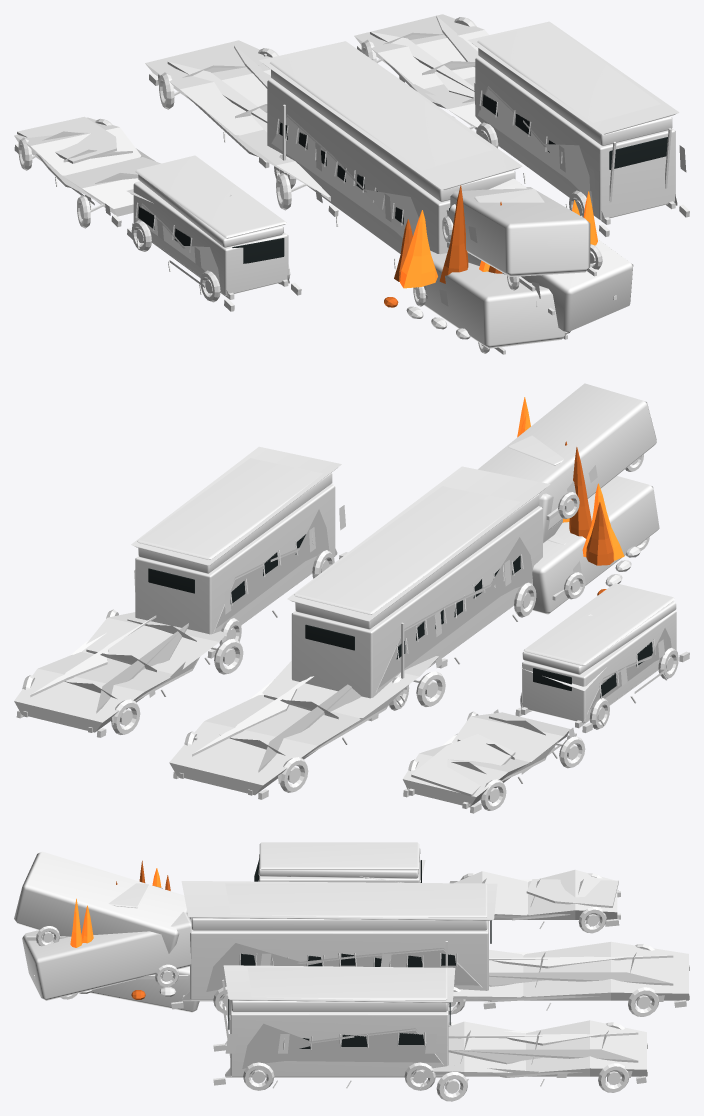
File: crush.glb
3 renders of one model, top to bottom at view 1: azimuth 30°, elevation 25°; view 2: azimuth 150°, elevation 25°; view 3: azimuth 270°, elevation 25°, orthographic. The views are drawn at different scales.
Visible parts, largest first — view 1: bus-whole-body-shell, rv-whole-body-shell, van-whole-body-shell, fire-stack-top-car-wreck-body, bus-crushed-body-shell, fire-stack-lower-car-wreck-body, rv-crushed-body-shell, van-crushed-body-shell, fire-stack-middle-car-wreck-body, curling-flame-tongue.005, rv-whole-broken-glass, rv-whole-welds-and-frame (+10 smaller); view 2: bus-whole-body-shell, rv-whole-body-shell, bus-crushed-body-shell, van-whole-body-shell, rv-crushed-body-shell, fire-stack-top-car-wreck-body, van-crushed-body-shell, fire-stack-lower-car-wreck-body, rv-crushed-wheels, bus-crushed-wheels, bus-whole-broken-glass, van-crushed-wheels (+10 smaller); view 3: bus-whole-body-shell, rv-whole-body-shell, bus-crushed-body-shell, rv-crushed-body-shell, fire-stack-top-car-wreck-body, fire-stack-middle-car-wreck-body, van-whole-body-shell, van-crushed-body-shell, fire-stack-lower-car-wreck-body, rv-crushed-wheels, rv-whole-welds-and-frame, rv-whole-wheels (+7 smaller).
Boxes of the visible parts, x1=… form: bus-whole-body-shell: x1=259, y1=41, x2=522, y2=254; rv-whole-body-shell: x1=468, y1=21, x2=679, y2=223; van-whole-body-shell: x1=127, y1=155, x2=289, y2=297; fire-stack-top-car-wreck-body: x1=450, y1=187, x2=590, y2=276; bus-crushed-body-shell: x1=145, y1=40, x2=330, y2=201; fire-stack-lower-car-wreck-body: x1=424, y1=250, x2=566, y2=348; rv-crushed-body-shell: x1=354, y1=14, x2=488, y2=132; van-crushed-body-shell: x1=14, y1=116, x2=160, y2=216; fire-stack-middle-car-wreck-body: x1=447, y1=178, x2=633, y2=332; curling-flame-tongue.005: x1=400, y1=210, x2=437, y2=288; rv-whole-broken-glass: x1=479, y1=90, x2=667, y2=169; rv-whole-welds-and-frame: x1=471, y1=83, x2=689, y2=236; bus-whole-body-shell: x1=287, y1=466, x2=550, y2=698; rv-whole-body-shell: x1=131, y1=446, x2=341, y2=634; bus-crushed-body-shell: x1=169, y1=656, x2=438, y2=795; van-whole-body-shell: x1=520, y1=583, x2=677, y2=724; rv-crushed-body-shell: x1=14, y1=612, x2=226, y2=732; fire-stack-top-car-wreck-body: x1=478, y1=383, x2=656, y2=529; van-crushed-body-shell: x1=402, y1=712, x2=570, y2=807; fire-stack-lower-car-wreck-body: x1=523, y1=476, x2=659, y2=614; rv-crushed-wheels: x1=22, y1=609, x2=243, y2=734; bus-crushed-wheels: x1=184, y1=671, x2=445, y2=792; bus-whole-broken-glass: x1=305, y1=554, x2=523, y2=660; van-crushed-wheels: x1=408, y1=711, x2=585, y2=810; bus-whole-body-shell: x1=181, y1=881, x2=497, y2=1000; rv-whole-body-shell: x1=223, y1=965, x2=455, y2=1076; bus-crushed-body-shell: x1=453, y1=941, x2=688, y2=1001; rv-crushed-body-shell: x1=422, y1=1020, x2=646, y2=1077; fire-stack-top-car-wreck-body: x1=14, y1=851, x2=187, y2=953; fire-stack-middle-car-wreck-body: x1=22, y1=912, x2=192, y2=1000; van-whole-body-shell: x1=258, y1=842, x2=425, y2=882; van-crushed-body-shell: x1=454, y1=869, x2=618, y2=920; fire-stack-lower-car-wreck-body: x1=90, y1=966, x2=199, y2=1012; rv-crushed-wheels: x1=436, y1=1022, x2=629, y2=1101; rv-whole-welds-and-frame: x1=213, y1=979, x2=453, y2=1088; rv-whole-wheels: x1=243, y1=1062, x2=435, y2=1090.
Bounding box in the file's own units: 13.35 × 3.97 × 18.51.
